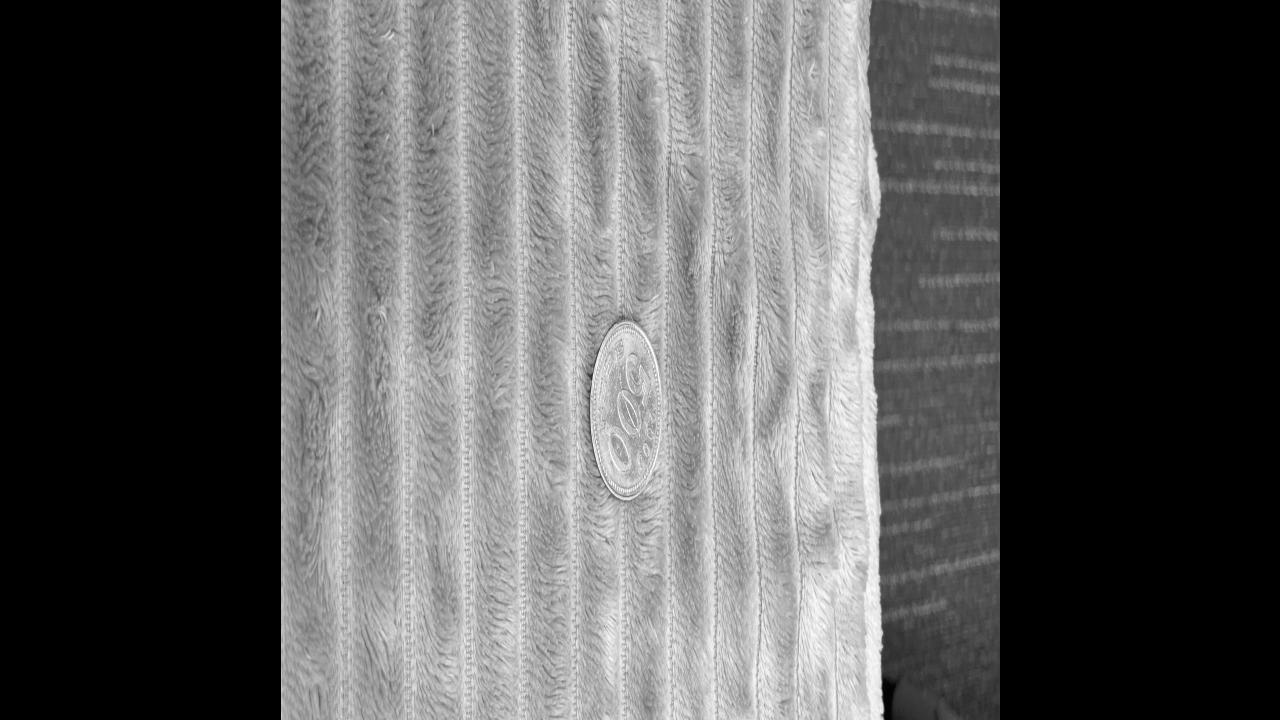coin: (588, 319, 664, 507)
